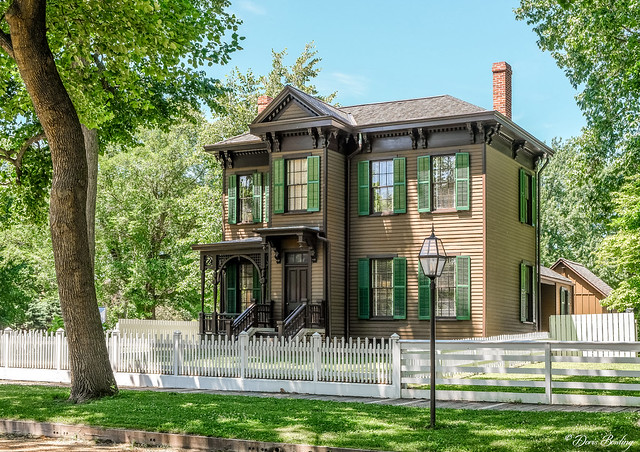low: (188, 82, 556, 365)
